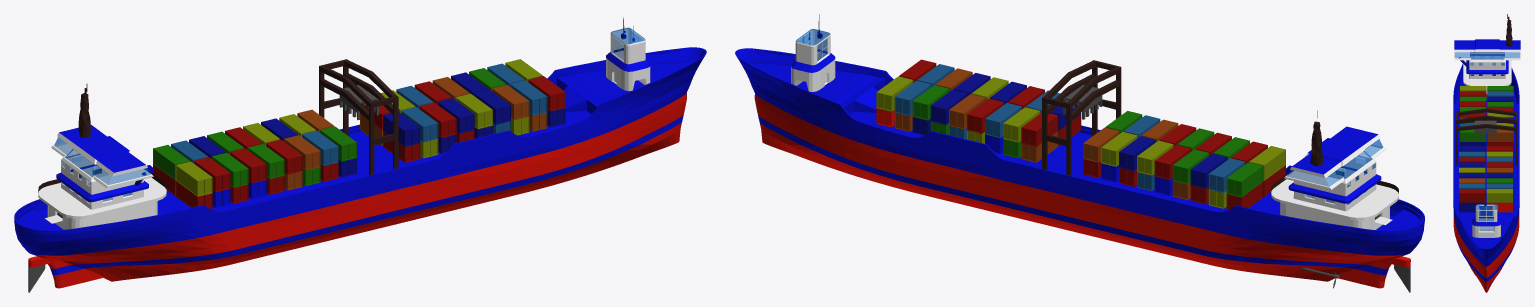
The model's file is PDV_M.glb.
3 views of the same model, side by side, from view 1: azimuth 30°, elevation 25°; view 2: azimuth 150°, elevation 25°; view 3: azimuth 270°, elevation 25° (orthographic). The views are drawn at different scales.
Parts seen in each view (by area): view 1: Tanker_Ship.001, Cube, Cube.007, Cube.004, Cube.044, Cube.079, Cube.045, Cube.051, Cube.067, Cube.071, Cube.055, Cube.063 (+15 smaller); view 2: Tanker_Ship.001, Cube, Cube.007, Cube.004, Cube.045, Cube.080, Cube.044, Cube.056, Cube.048, Cube.076, Cube.052, Cube.060 (+15 smaller); view 3: Tanker_Ship.001, Cube, Cube.007, Cube.004, Cube.047, Cube.048, Cube.013, Cube.012, Cube.008, Cube.046, Cube.009, Cube.003 (+30 smaller).
Boxes of the visible parts, x1=… form: Tanker_Ship.001: x1=14, y1=47, x2=706, y2=292; Cube: x1=38, y1=125, x2=166, y2=229; Cube.007: x1=319, y1=59, x2=398, y2=175; Cube.004: x1=606, y1=27, x2=650, y2=91; Cube.044: x1=176, y1=161, x2=212, y2=196; Cube.079: x1=383, y1=112, x2=420, y2=146; Cube.045: x1=153, y1=145, x2=189, y2=179; Cube.051: x1=510, y1=80, x2=547, y2=115; Cube.067: x1=437, y1=98, x2=474, y2=133; Cube.071: x1=419, y1=102, x2=456, y2=137; Cube.055: x1=492, y1=85, x2=529, y2=120; Cube.063: x1=455, y1=93, x2=492, y2=128; Tanker_Ship.001: x1=735, y1=48, x2=1424, y2=292; Cube: x1=1271, y1=126, x2=1398, y2=229; Cube.007: x1=1042, y1=60, x2=1121, y2=175; Cube.004: x1=791, y1=29, x2=835, y2=91; Cube.045: x1=1226, y1=162, x2=1263, y2=197; Cube.080: x1=1021, y1=113, x2=1058, y2=146; Cube.044: x1=1249, y1=146, x2=1285, y2=180; Cube.056: x1=912, y1=85, x2=949, y2=120; Cube.048: x1=876, y1=76, x2=913, y2=111; Cube.076: x1=1003, y1=107, x2=1040, y2=142; Cube.052: x1=894, y1=80, x2=931, y2=115; Cube.060: x1=930, y1=89, x2=967, y2=124; Tanker_Ship.001: x1=1453, y1=64, x2=1519, y2=292; Cube: x1=1454, y1=39, x2=1520, y2=99; Cube.007: x1=1455, y1=108, x2=1517, y2=165; Cube.004: x1=1472, y1=204, x2=1500, y2=237; Cube.047: x1=1459, y1=189, x2=1485, y2=202; Cube.048: x1=1486, y1=189, x2=1512, y2=202; Cube.013: x1=1487, y1=129, x2=1513, y2=141; Cube.012: x1=1460, y1=129, x2=1486, y2=141; Cube.008: x1=1474, y1=120, x2=1496, y2=136; Cube.046: x1=1486, y1=202, x2=1512, y2=212; Cube.009: x1=1459, y1=202, x2=1484, y2=212; Cube.003: x1=1506, y1=14, x2=1512, y2=46.
Bounding box in the file's own units: 102 × 26.22 × 14.38.
